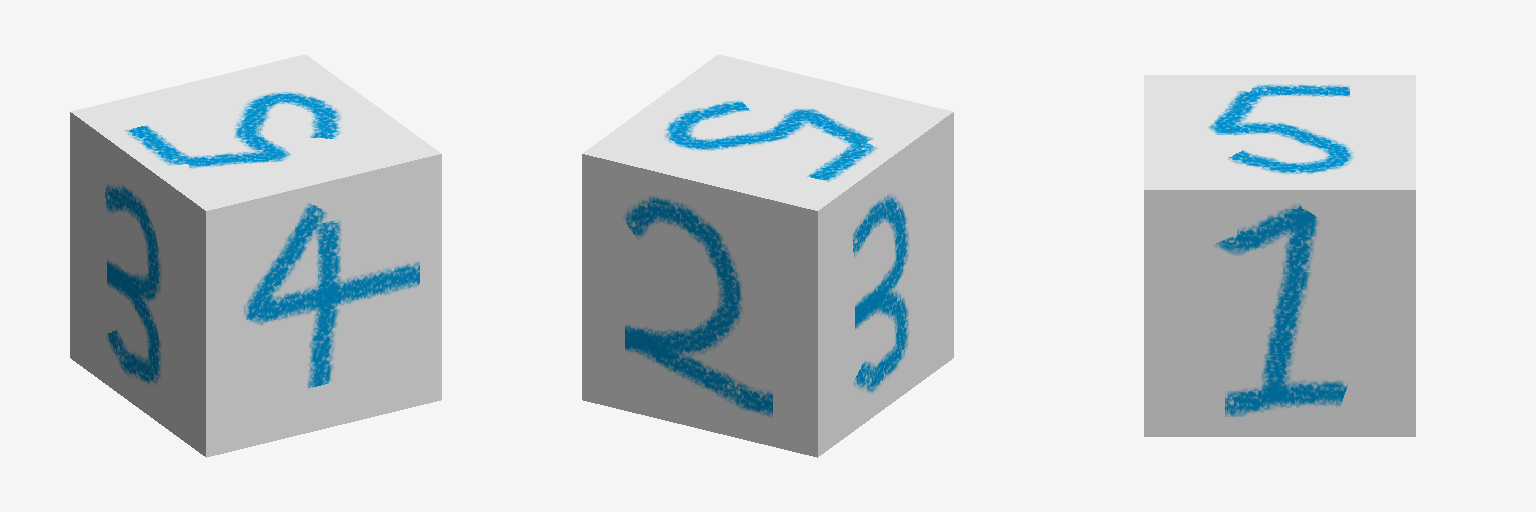
The picture shows the model from 3 angles: view 1: azimuth 30°, elevation 25°; view 2: azimuth 150°, elevation 25°; view 3: azimuth 270°, elevation 25°; orthographic projection.
Parts seen in each view (by area): view 1: Skybox; view 2: Skybox; view 3: Skybox.
Boxes of the visible parts, box(x1,y1,x2,y2) form: Skybox: box(70, 54, 441, 457); Skybox: box(582, 54, 953, 457); Skybox: box(1144, 75, 1415, 436).
Bounding box in the file's own units: 2000 × 2000 × 2000.
6 materials, 6 textured.